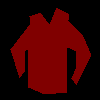abbigliamento_uomo: (10, 7, 91, 94)
